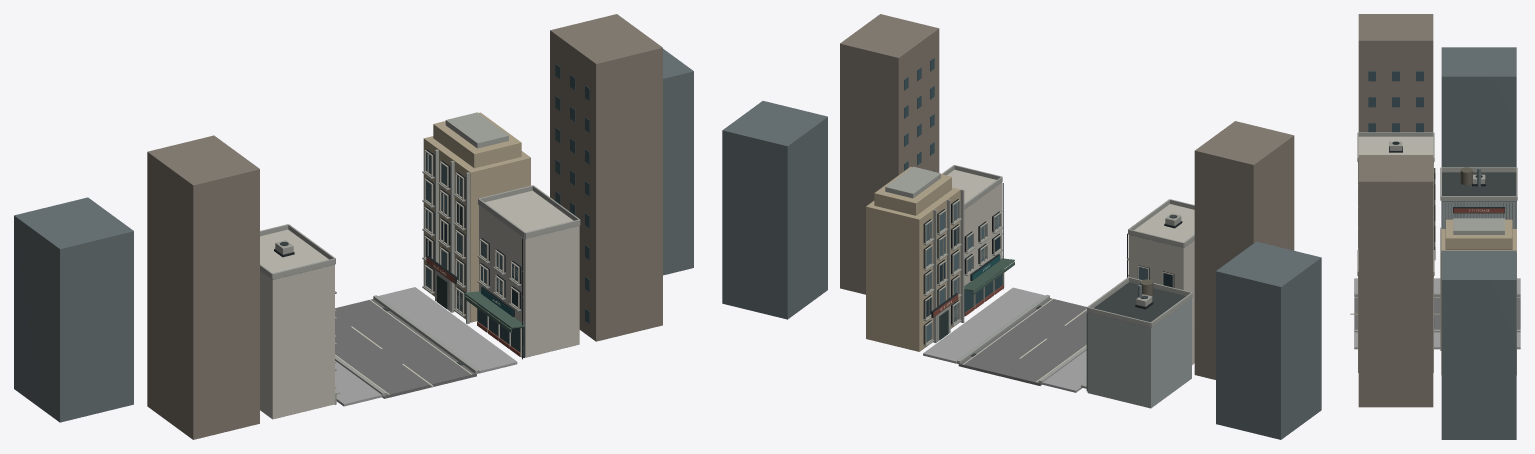
The model's file is city_hd_19.glb.
The picture shows the model from 3 angles, left to right: view 1: azimuth 30°, elevation 25°; view 2: azimuth 150°, elevation 25°; view 3: azimuth 270°, elevation 25°; orthographic projection. The views are drawn at different scales.
Visible parts, largest first — view 1: CITY_distant_3, CITY_distant_0, CITY_wall_ivory, CITY_PBR_asphalt, CITY_wall_sand, CITY_trim, CITY_PBR_pavement, CITY_frame, CITY_glass, CITY_distant_window, CITY_recess, CITY_curb (+2 smaller); view 2: CITY_distant_0, CITY_distant_3, CITY_wall_sand, Industrial warehouse volume, CITY_wall_ivory, CITY_PBR_asphalt, CITY_trim, CITY_PBR_pavement, CITY_frame, CITY_wall_gray, CITY_glass, CITY_recess (+4 smaller); view 3: CITY_distant_3, CITY_distant_0, CITY_trim, CITY_wall_sand, CITY_wall_ivory, CITY_wall_gray, Industrial warehouse volume, CITY_distant_window, CITY_PBR_asphalt, CITY_PBR_pavement, CITY_warehouse_metal, CITY_darkmetal (+4 smaller).
Boxes of the visible parts, bbox=[...] form: CITY_distant_3: bbox=[147, 14, 662, 439]; CITY_distant_0: bbox=[14, 49, 693, 422]; CITY_wall_ivory: bbox=[260, 190, 579, 419]; CITY_PBR_asphalt: bbox=[335, 299, 476, 398]; CITY_wall_sand: bbox=[423, 112, 530, 322]; CITY_trim: bbox=[260, 112, 580, 404]; CITY_PBR_pavement: bbox=[335, 287, 517, 406]; CITY_frame: bbox=[424, 149, 521, 356]; CITY_glass: bbox=[425, 152, 517, 311]; CITY_distant_window: bbox=[555, 64, 589, 323]; CITY_recess: bbox=[425, 149, 521, 314]; CITY_curb: bbox=[335, 295, 478, 396]; CITY_distant_0: bbox=[722, 101, 1321, 439]; CITY_distant_3: bbox=[840, 14, 1294, 379]; CITY_wall_sand: bbox=[866, 166, 960, 351]; Industrial warehouse volume: bbox=[1087, 298, 1191, 408]; CITY_wall_ivory: bbox=[947, 169, 1194, 364]; CITY_PBR_asphalt: bbox=[958, 298, 1086, 385]; CITY_trim: bbox=[885, 165, 1194, 388]; CITY_PBR_pavement: bbox=[923, 287, 1086, 392]; CITY_frame: bbox=[924, 199, 1173, 344]; CITY_wall_gray: bbox=[1094, 282, 1185, 322]; CITY_glass: bbox=[926, 202, 1147, 342]; CITY_recess: bbox=[923, 199, 1174, 344]; CITY_distant_3: bbox=[1358, 14, 1433, 407]; CITY_distant_0: bbox=[1441, 47, 1516, 439]; CITY_trim: bbox=[1357, 132, 1517, 350]; CITY_wall_sand: bbox=[1441, 219, 1516, 374]; CITY_wall_ivory: bbox=[1358, 136, 1433, 372]; CITY_wall_gray: bbox=[1358, 162, 1516, 276]; Industrial warehouse volume: bbox=[1441, 201, 1516, 228]; CITY_distant_window: bbox=[1368, 71, 1423, 132]; CITY_PBR_asphalt: bbox=[1354, 296, 1520, 329]; CITY_PBR_pavement: bbox=[1354, 278, 1520, 349]; CITY_warehouse_metal: bbox=[1442, 202, 1515, 228]; CITY_darkmetal: bbox=[1389, 141, 1504, 213].
Bounding box in the file's own units: 57.3 × 24.26 × 16.4.
